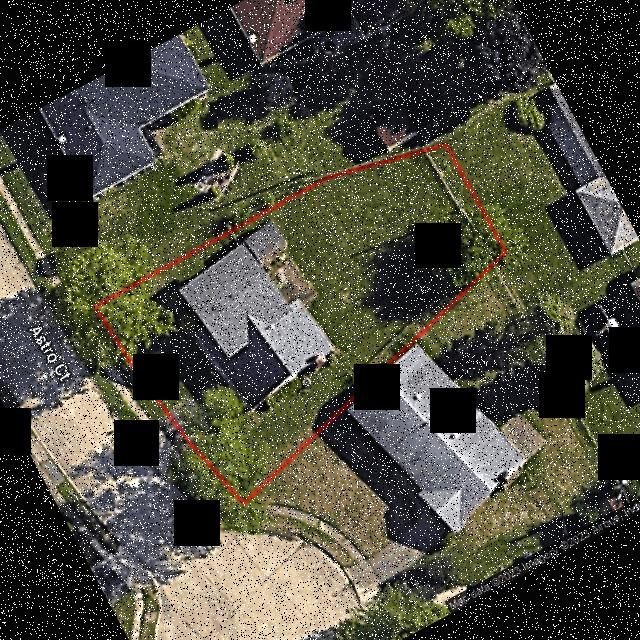Driveway: (168, 375, 243, 442)
Extra Driveway: (128, 414, 187, 478)
Extra Lawn: (79, 306, 164, 422), (59, 317, 144, 432), (165, 458, 240, 527), (176, 445, 236, 500)
Extra Sidewalk: (72, 313, 152, 427), (171, 454, 242, 507)
House: (177, 220, 333, 406)
